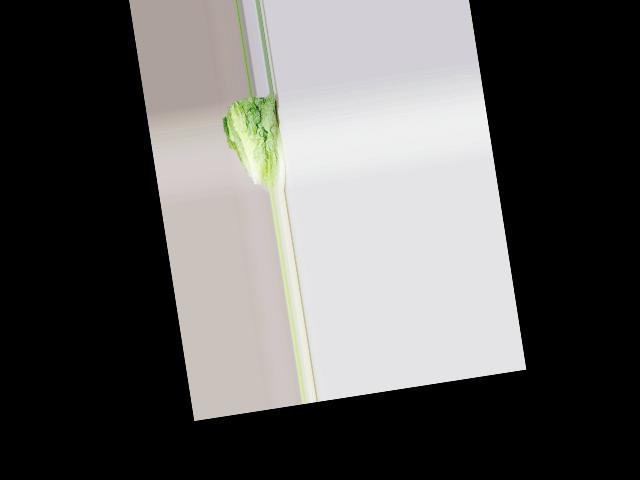lettuce: (226, 91, 291, 192)
